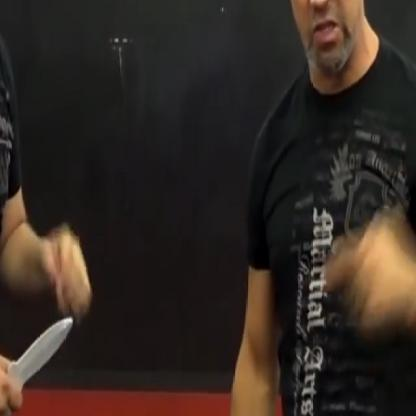knife: (0, 306, 78, 415)
